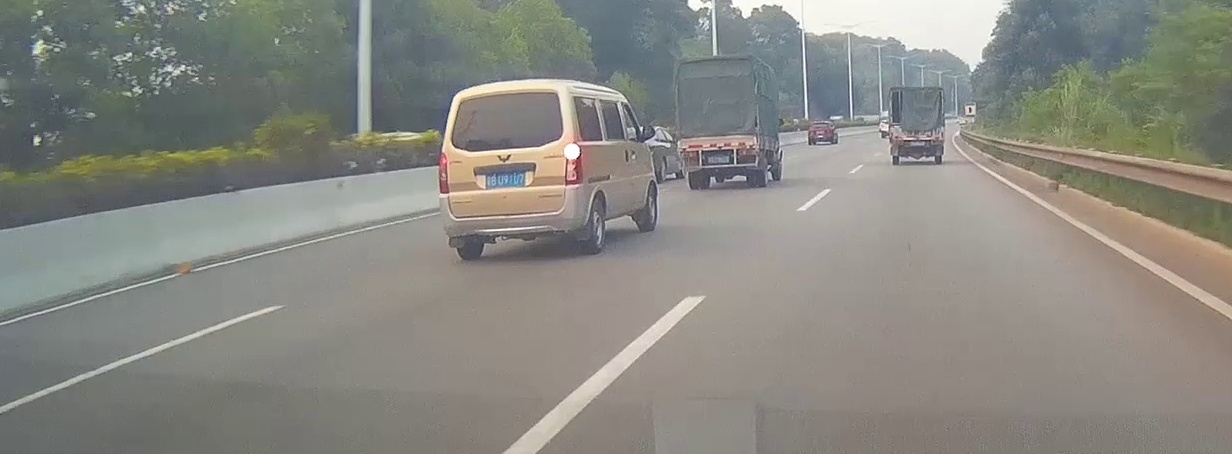L_light: (439, 152, 449, 193), (685, 152, 696, 156), (895, 141, 903, 144)
R_light: (564, 141, 583, 185), (741, 149, 753, 155), (934, 140, 942, 144)
T_light: (494, 95, 512, 98), (711, 135, 722, 137), (911, 125, 920, 127)
day-no: (676, 54, 760, 189), (888, 87, 945, 164)
day-right: (439, 79, 584, 260)
